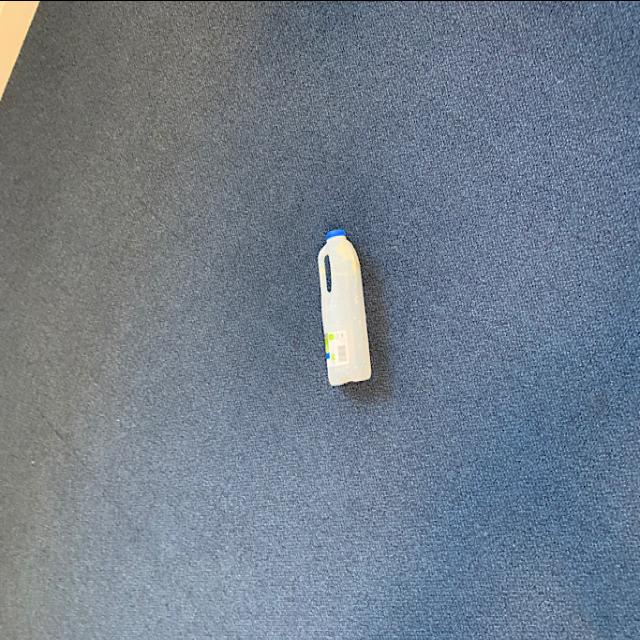litter: (316, 226, 374, 388)
